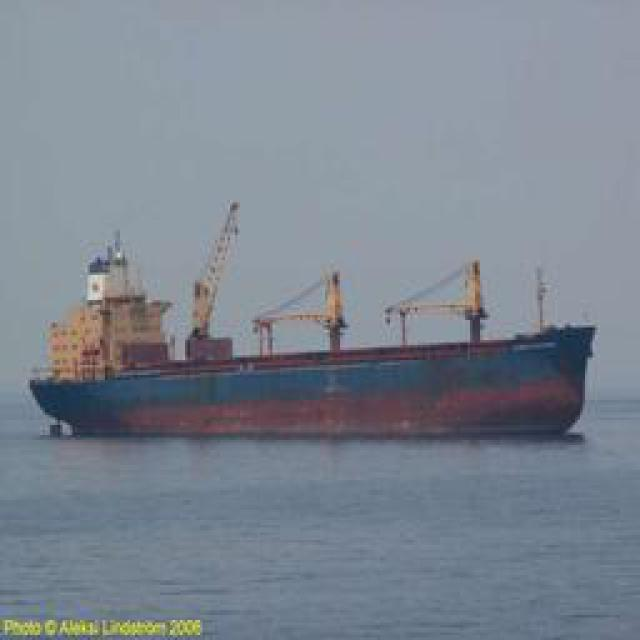Ship: (29, 237, 604, 445)
